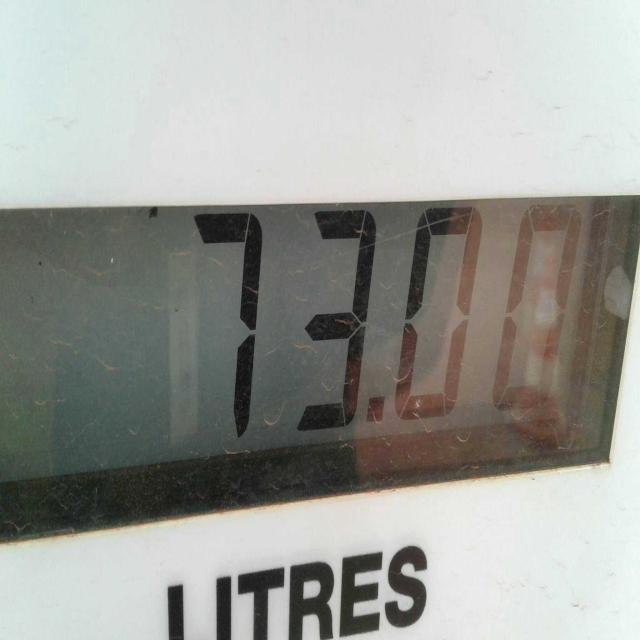.: (355, 387, 404, 451)
0: (497, 191, 585, 447), (395, 205, 485, 454)
3: (278, 200, 375, 443)
7: (175, 207, 273, 447)
